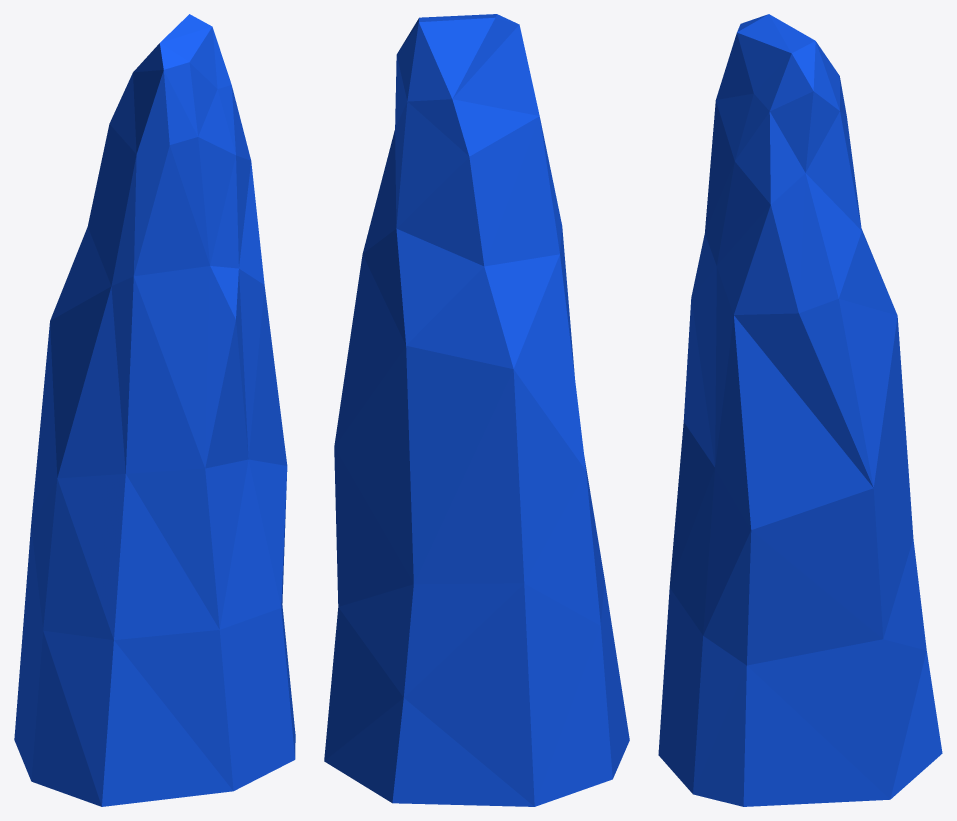
Rendered from Crystal.fbx.
3 views of the same model, side by side, from view 1: azimuth 30°, elevation 25°; view 2: azimuth 150°, elevation 25°; view 3: azimuth 270°, elevation 25° (orthographic). The views are drawn at different scales.
Visible parts, largest first — view 1: Cube.052; view 2: Cube.052; view 3: Cube.052.
Boxes of the visible parts, <box> form: Cube.052: <box>14,14,295,806</box>; Cube.052: <box>324,14,629,806</box>; Cube.052: <box>658,14,942,806</box>.
Size of the model in its own units: 3.81 by 10.59 by 3.73.
